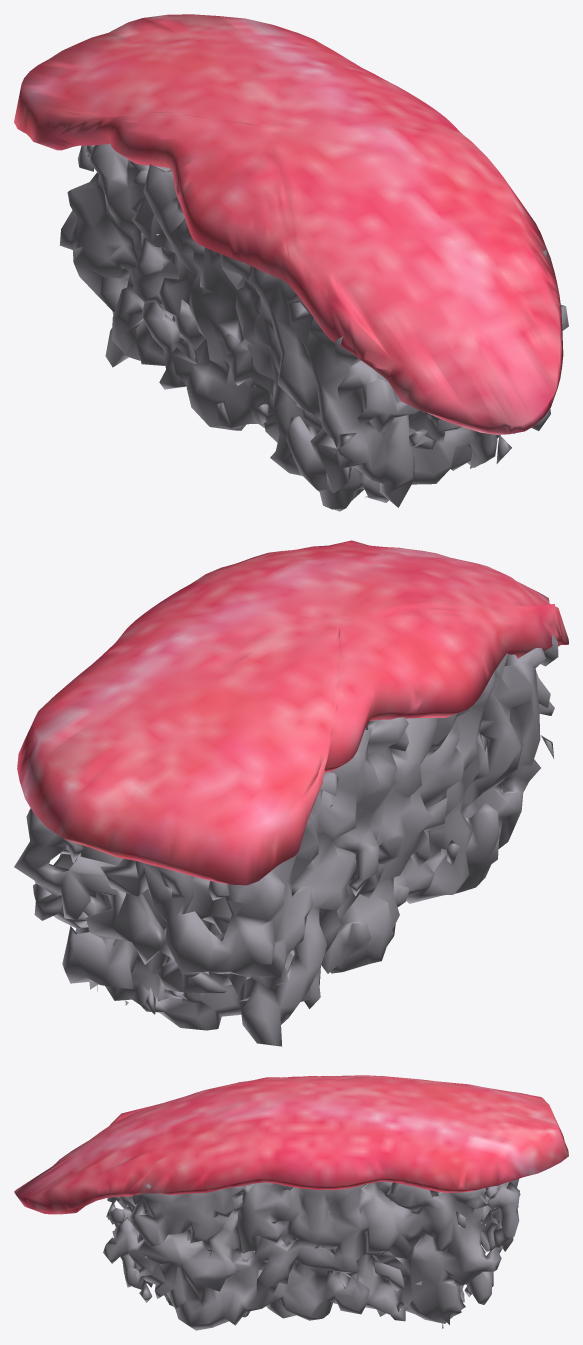
Rendered from sushiTuna.fbx.
The picture shows the model from 3 angles, top to bottom: view 1: azimuth 30°, elevation 25°; view 2: azimuth 150°, elevation 25°; view 3: azimuth 270°, elevation 25°; orthographic projection. The views are drawn at different scales.
Visible parts, largest first — view 1: SurfCurve, Mball; view 2: SurfCurve, Mball; view 3: SurfCurve, Mball.
Boxes of the visible parts, bbox=[...] form: SurfCurve: bbox=[14, 14, 563, 434]; Mball: bbox=[59, 143, 568, 511]; SurfCurve: bbox=[17, 540, 568, 885]; Mball: bbox=[14, 633, 558, 1046]; SurfCurve: bbox=[14, 1075, 568, 1214]; Mball: bbox=[103, 1179, 520, 1330].
Bounding box in the file's own units: 39.56 × 41.32 × 97.86.
